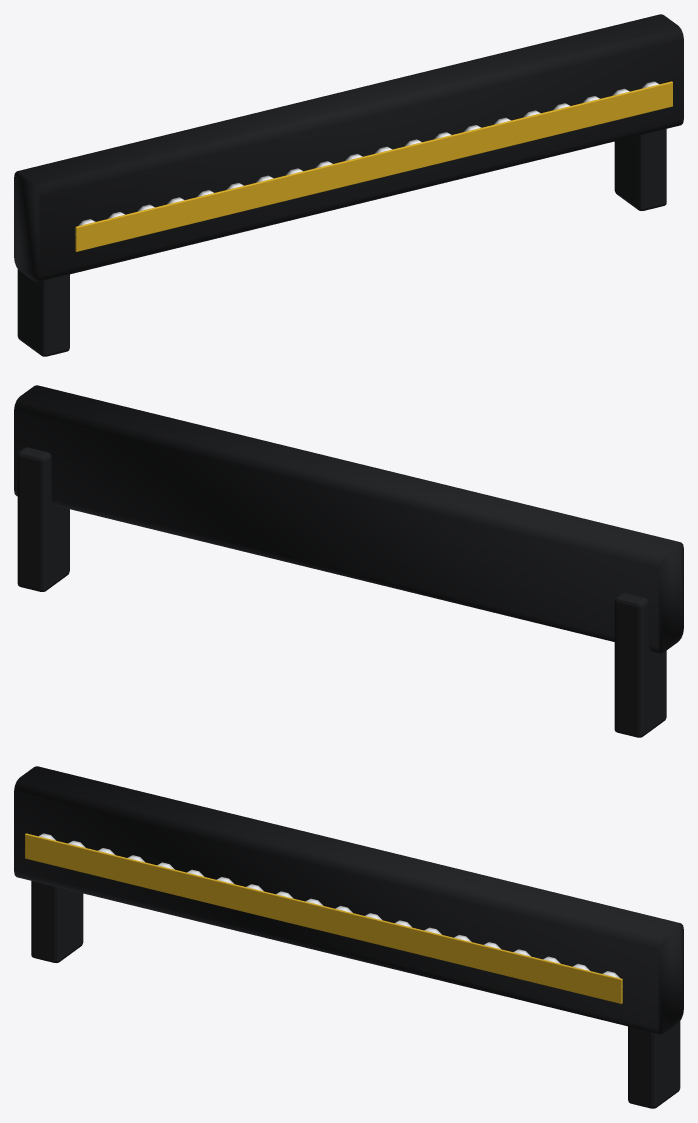
File: grilleLight_lower.glb
3 renders of one model, top to bottom at view 1: azimuth 30°, elevation 25°; view 2: azimuth 150°, elevation 25°; view 3: azimuth 330°, elevation 25°, orthographic.
Visible parts, largest first — view 1: housing.011, lens.011, brk-1, brk1.001; view 2: housing.011, brk-1, brk1.001; view 3: housing.011, lens.011, brk1.001, brk-1.
Part boxes in pixels (x1,y1,x2,y2): housing.011: (14,14,683,282); lens.011: (75,81,672,251); brk-1: (17,269,69,356); brk1.001: (614,129,666,210); housing.011: (14,385,683,653); brk-1: (614,593,666,737); brk1.001: (17,447,69,591); housing.011: (14,766,683,1034); lens.011: (25,833,622,1003); brk1.001: (628,1021,680,1108); brk-1: (31,881,83,962).
Size of the model in its own units: 0.546 by 0.145 by 0.068.
